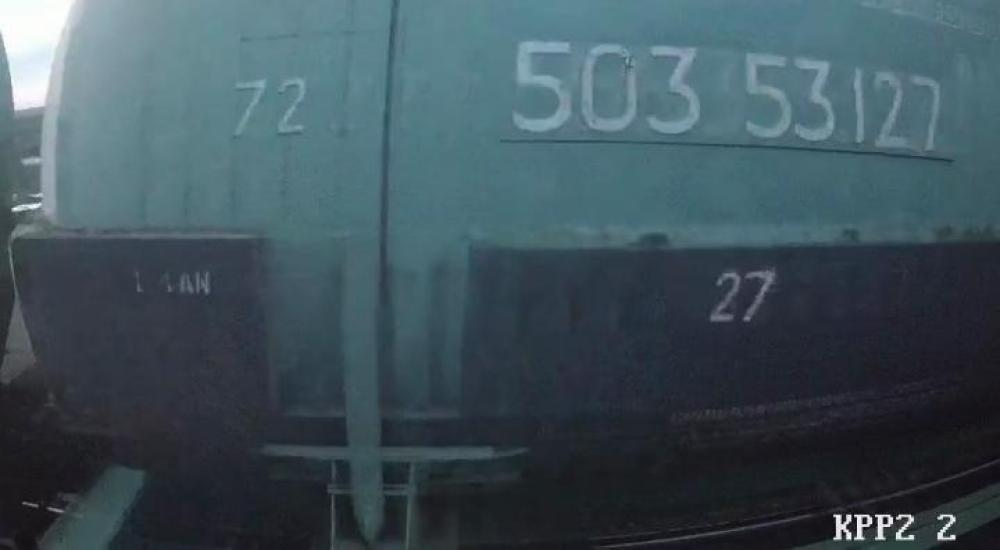Wagon-number: (504, 31, 947, 160)
